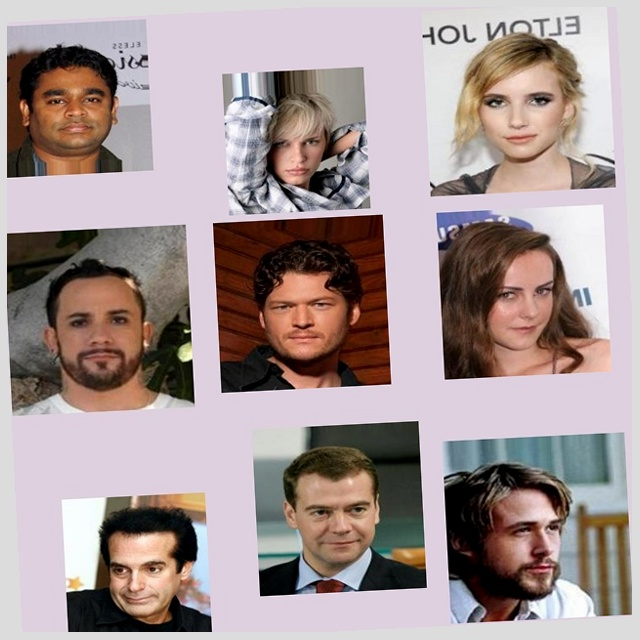celeb_1212: (215, 213, 393, 392)
celeb_2336: (38, 473, 189, 624)
celeb_2619: (233, 423, 408, 598)
celeb_2970: (443, 23, 638, 218)
celeb_3: (5, 203, 196, 394)
celeb_4422: (439, 226, 614, 401)
celeb_7: (19, 0, 177, 155)
celeb_797: (241, 66, 389, 215)
celeb_8335: (420, 454, 612, 640)
